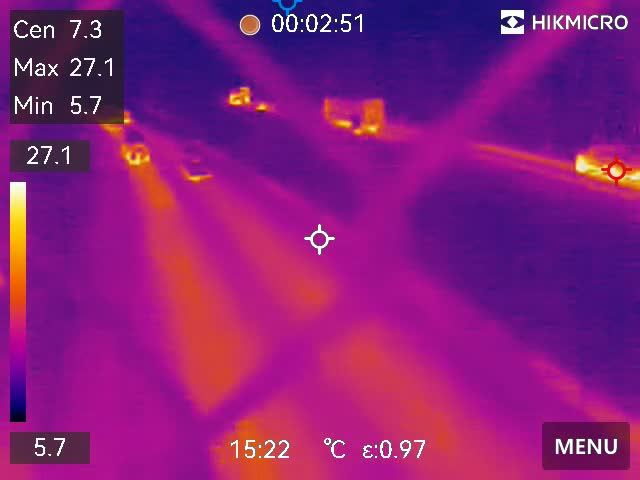heavyTruck: (312, 87, 388, 131)
